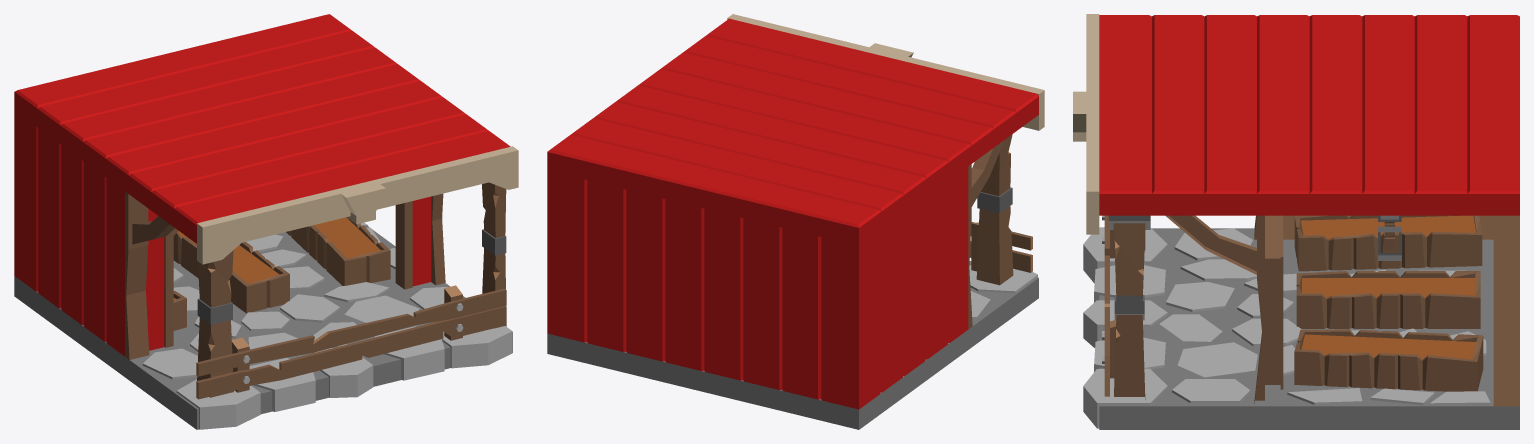
File: Farm_Level_01_StraightLeft.fbx
3 views of the same model, side by side, from view 1: azimuth 30°, elevation 25°; view 2: azimuth 150°, elevation 25°; view 3: azimuth 270°, elevation 25° (orthographic). The views are drawn at different scales.
Parts seen in each view (by area): view 1: Farm_Level_01_StraightLeft; view 2: Farm_Level_01_StraightLeft; view 3: Farm_Level_01_StraightLeft.
Boxes of the visible parts, x1=… form: Farm_Level_01_StraightLeft: x1=14, y1=14, x2=518, y2=429; Farm_Level_01_StraightLeft: x1=547, y1=14, x2=1044, y2=429; Farm_Level_01_StraightLeft: x1=1073, y1=14, x2=1519, y2=429.
Bounding box in the file's own units: 8 × 5 × 8.5.
